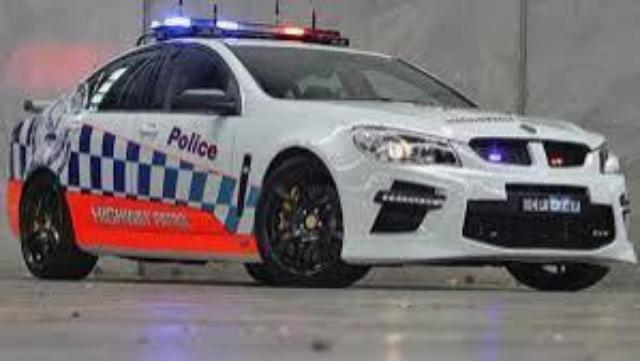police_car: (4, 15, 638, 289)
